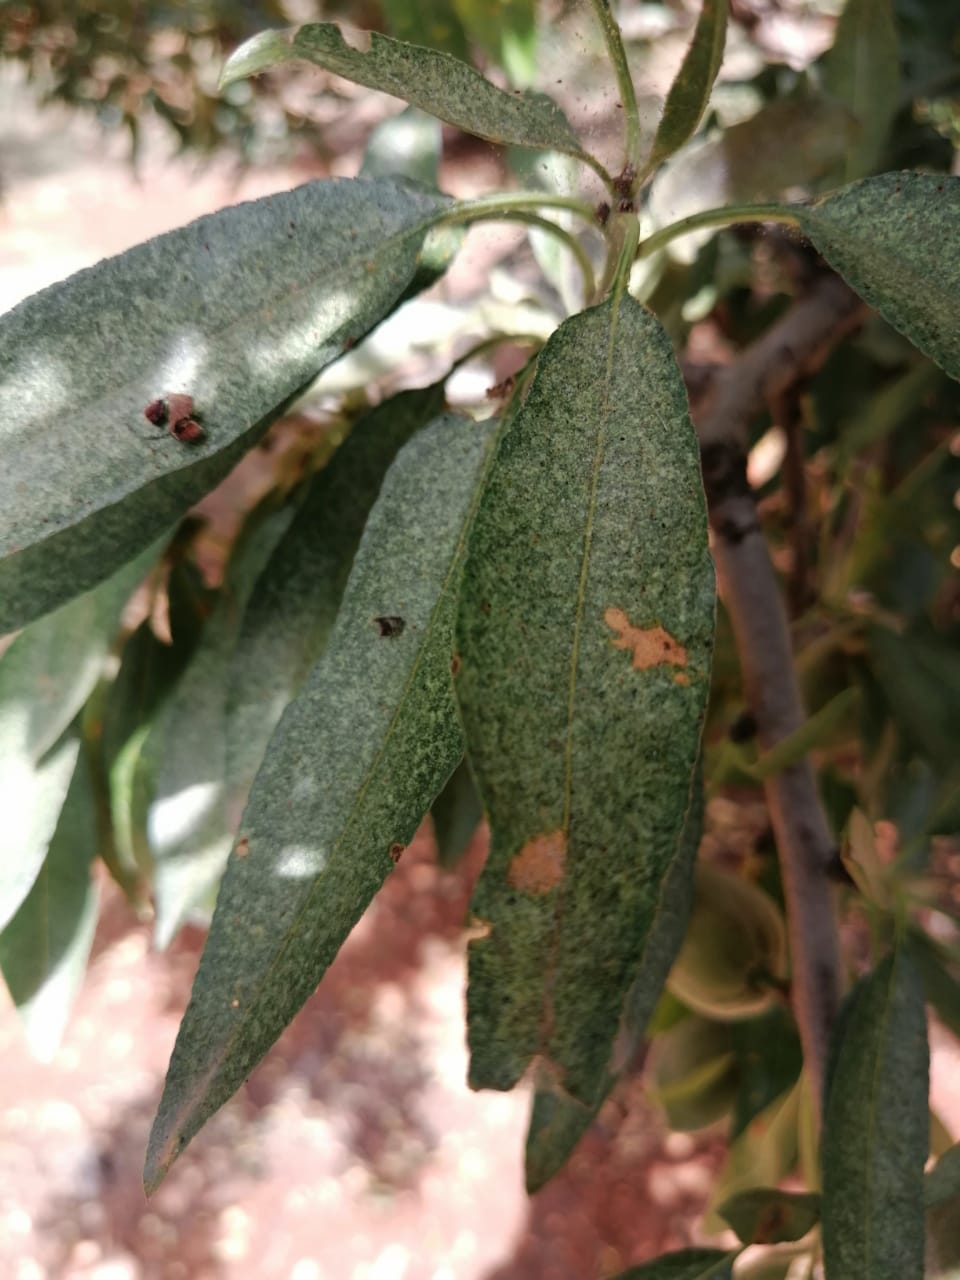acariens: (141, 410, 506, 1195), (455, 303, 718, 1103), (1, 177, 440, 560)
